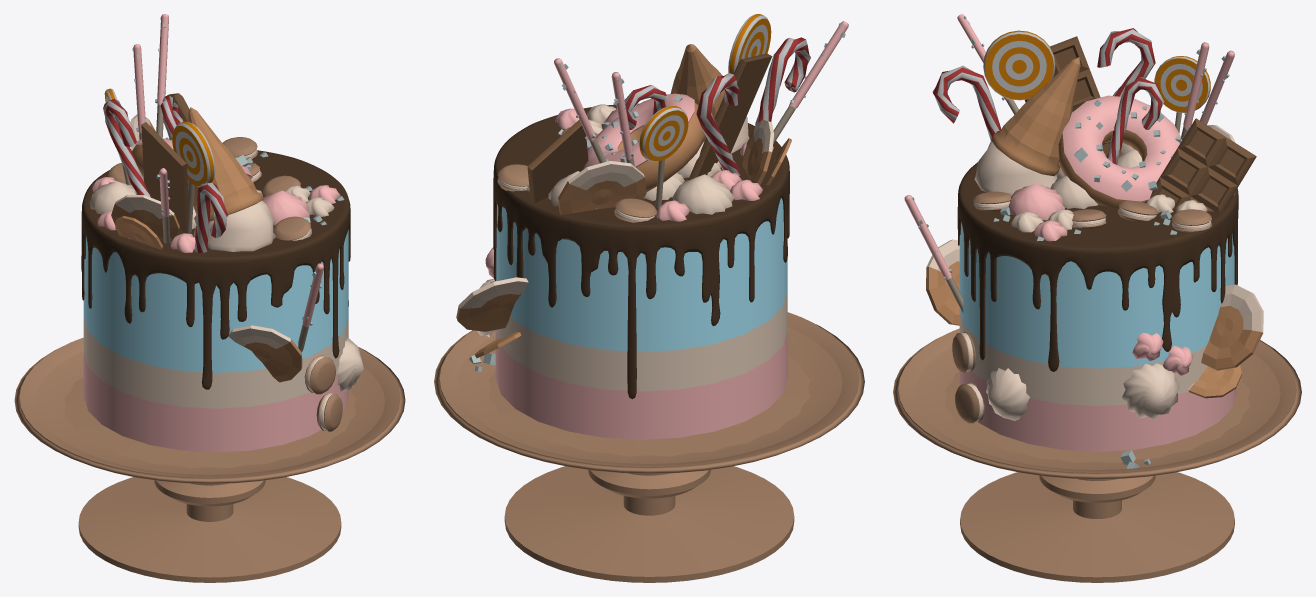
3 views of the same model, side by side, from view 1: azimuth 30°, elevation 25°; view 2: azimuth 150°, elevation 25°; view 3: azimuth 270°, elevation 25° (orthographic). The views are drawn at different scales.
Parts seen in each view (by area): view 1: pCylinder19, pCylinder1, pCylinder3, pCylinder18, pCube70, pCylinder35, pCylinder28, pCylinder27, pCylinder25, pCylinder33, palepink3, pCylinder22 (+12 smaller); view 2: pCylinder19, pCylinder1, pCylinder3, pCube38, pCylinder32, pCube70, pCube54, pCylinder30, pCylinder29, pCylinder25, pCylinder18, pCylinder27 (+10 smaller); view 3: pCylinder19, pCylinder1, pCylinder3, pCube38, pCylinder18, pCube54, pCylinder28, pCylinder30, palepink17, pCylinder29, pCylinder35, pCylinder25 (+19 smaller).
Part boxes in pixels (<box>): pCylinder19: <box>14,337,405,582</box>; pCylinder1: <box>83,229,348,452</box>; pCylinder3: <box>81,150,350,389</box>; pCylinder18: <box>188,107,275,251</box>; pCube70: <box>141,122,189,232</box>; pCylinder35: <box>228,325,302,382</box>; pCylinder28: <box>172,121,215,232</box>; pCylinder27: <box>103,98,150,197</box>; pCylinder25: <box>194,182,227,252</box>; pCylinder33: <box>111,195,179,238</box>; palepink3: <box>262,190,309,225</box>; pCylinder22: <box>155,14,168,137</box>; pCylinder19: <box>434,312,864,582</box>; pCylinder1: <box>495,198,787,439</box>; pCylinder3: <box>493,103,789,399</box>; pCube38: <box>583,93,705,191</box>; pCylinder32: <box>558,161,646,214</box>; pCube70: <box>688,53,772,179</box>; pCube54: <box>527,120,588,203</box>; pCylinder30: <box>456,277,528,331</box>; pCylinder29: <box>639,106,688,207</box>; pCylinder25: <box>755,37,810,126</box>; pCylinder18: <box>670,44,749,153</box>; pCylinder27: <box>696,73,740,175</box>; pCylinder19: <box>893,328,1301,582</box>; pCylinder1: <box>959,222,1236,451</box>; pCylinder3: <box>957,162,1238,371</box>; pCube38: <box>1058,95,1181,207</box>; pCylinder18: <box>974,57,1080,195</box>; pCube54: <box>1144,118,1256,211</box>; pCylinder28: <box>983,30,1055,101</box>; pCylinder30: <box>1201,284,1263,370</box>; palepink17: <box>1122,363,1179,419</box>; pCylinder29: <box>1154,56,1210,132</box>; pCylinder35: <box>926,239,959,325</box>; pCylinder25: <box>932,65,1001,140</box>.
Size of the model in its own units: 0.0926 by 0.1208 by 0.0926.
